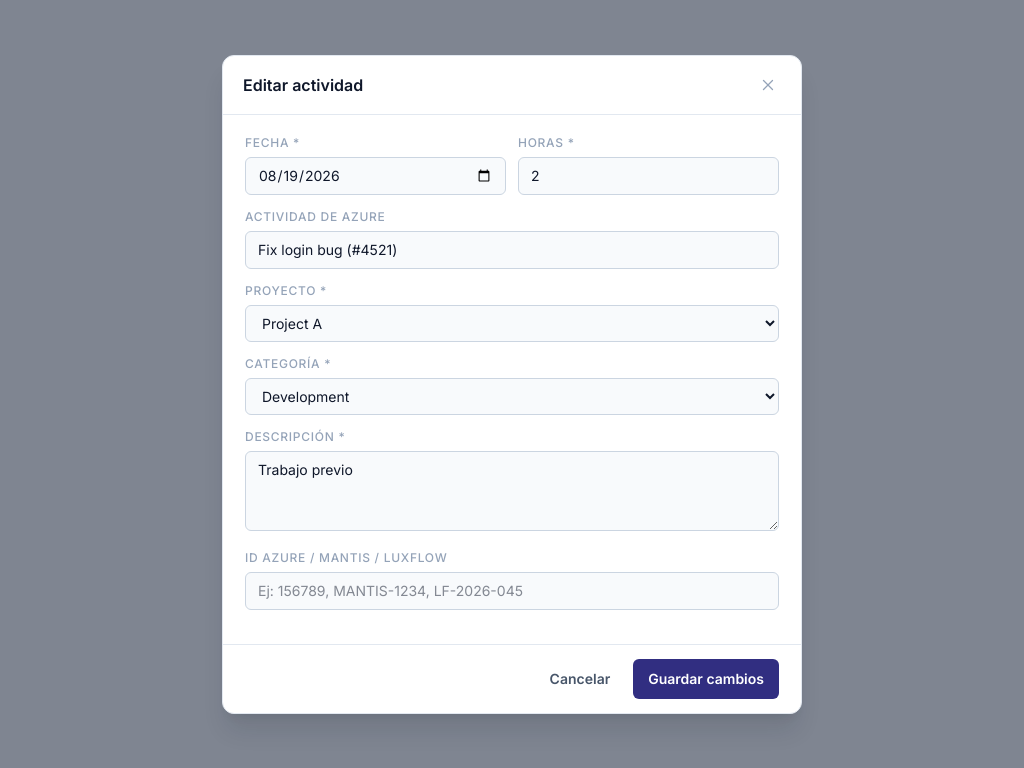
it: EditActivityModal Azure activity picker › overwrites the loaded project/category when switching to an unmapped work item, since they were never hand-edited
expect the dropdown named "Proyecto *" shows "Project A": met, box [245,304,779,342]
expect the dropdown named "Categoría *" shows "Development": met, box [245,378,779,414]
What coordinates should you click on to do the following:
click the dropdown named "Actividad de Azure"
I would click on:
 (512, 250)
Its box is [245,230,779,268].
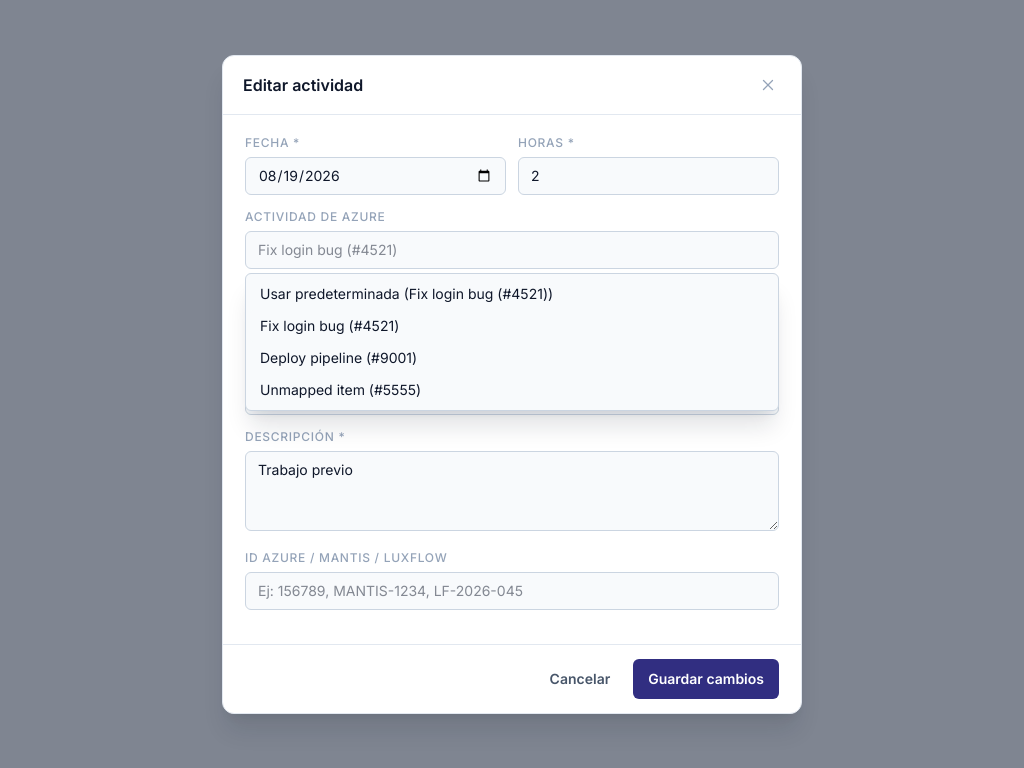
What coordinates should you click on to do the following:
click the option "Unmapped item (#5555)"
I would click on:
 (341, 389)
Its box is [260,380,421,398].
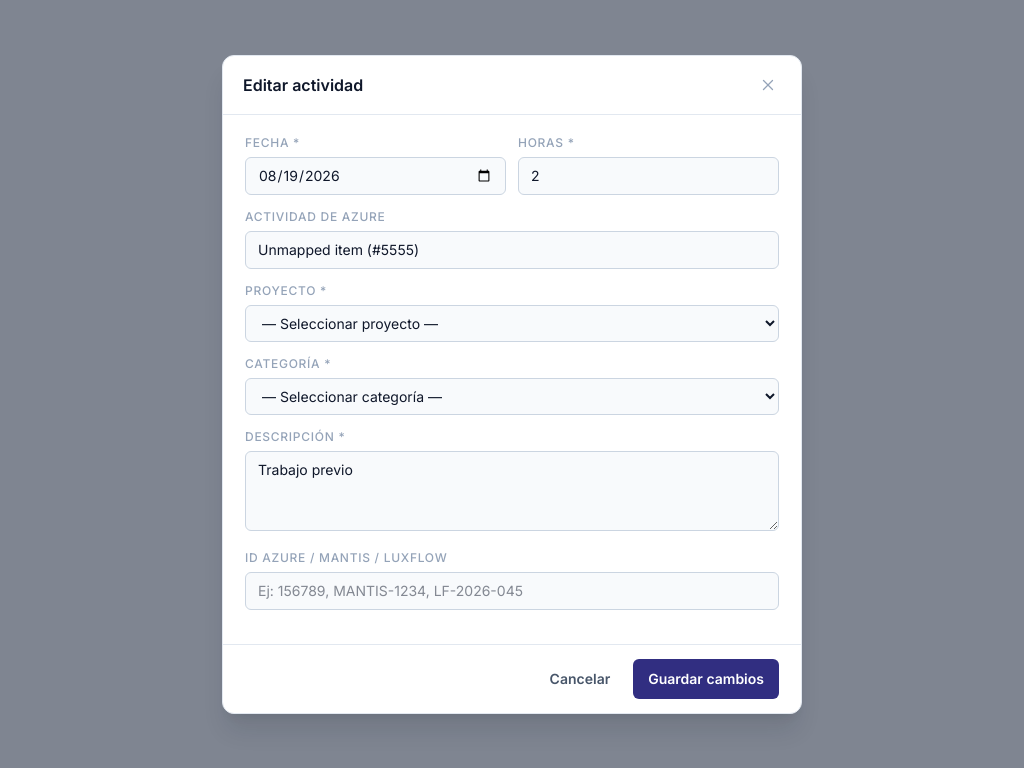
expect the dropdown named "Proyecto *" shows "— Seleccionar proyecto —": met, box [245,304,779,342]
expect the dropdown named "Categoría *" shows "— Seleccionar categoría —": met, box [245,378,779,414]
